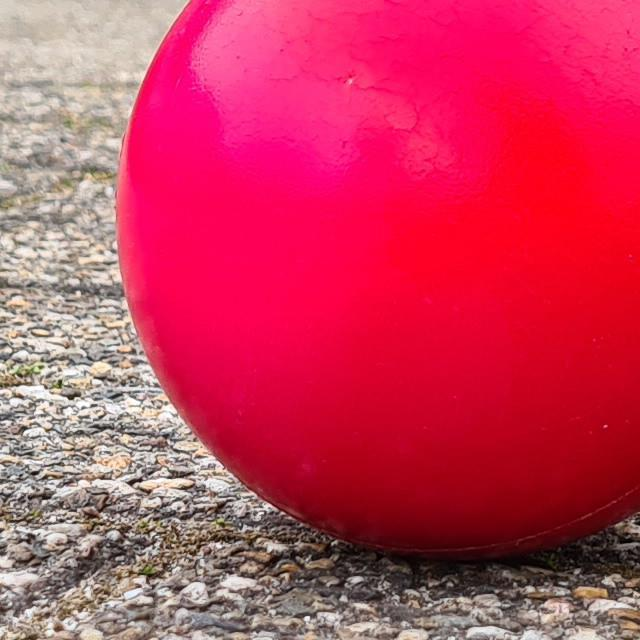ball: (116, 0, 640, 565)
